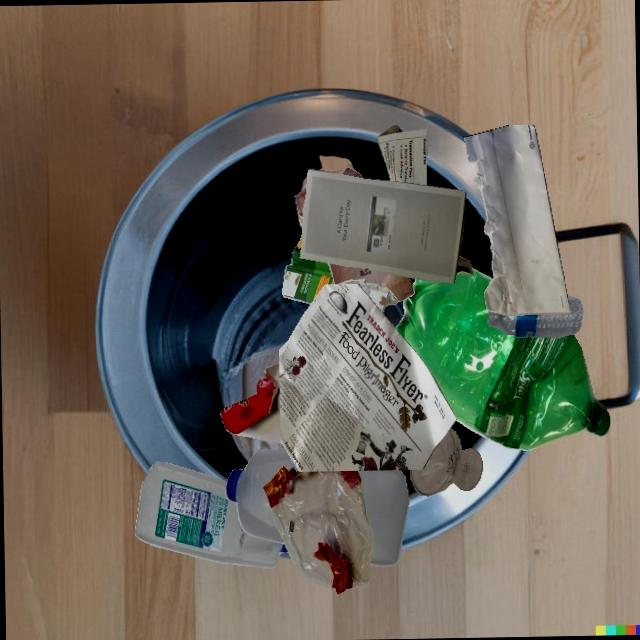cardboard: (282, 232, 334, 304), (339, 279, 399, 313)
glass: (409, 428, 482, 496)
paper: (279, 283, 456, 472), (464, 124, 570, 316), (299, 168, 466, 282), (303, 174, 389, 273), (220, 363, 281, 443), (377, 124, 427, 185), (302, 157, 319, 231), (318, 155, 354, 174)
plastic: (394, 267, 609, 450), (135, 461, 288, 568), (262, 466, 373, 594), (225, 448, 298, 544), (357, 470, 409, 566), (487, 296, 582, 338)
